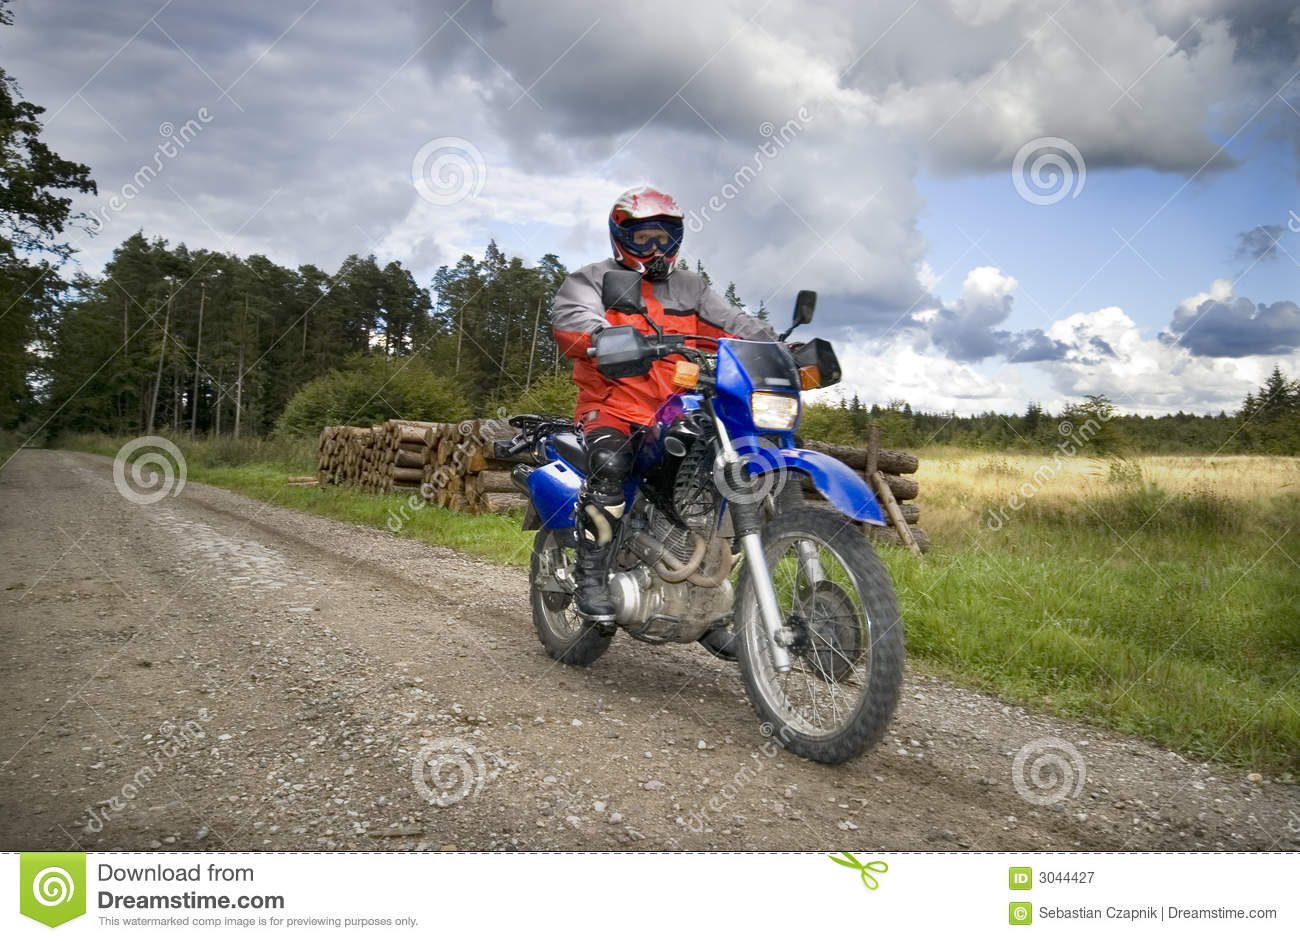helmet: (607, 175, 685, 285)
